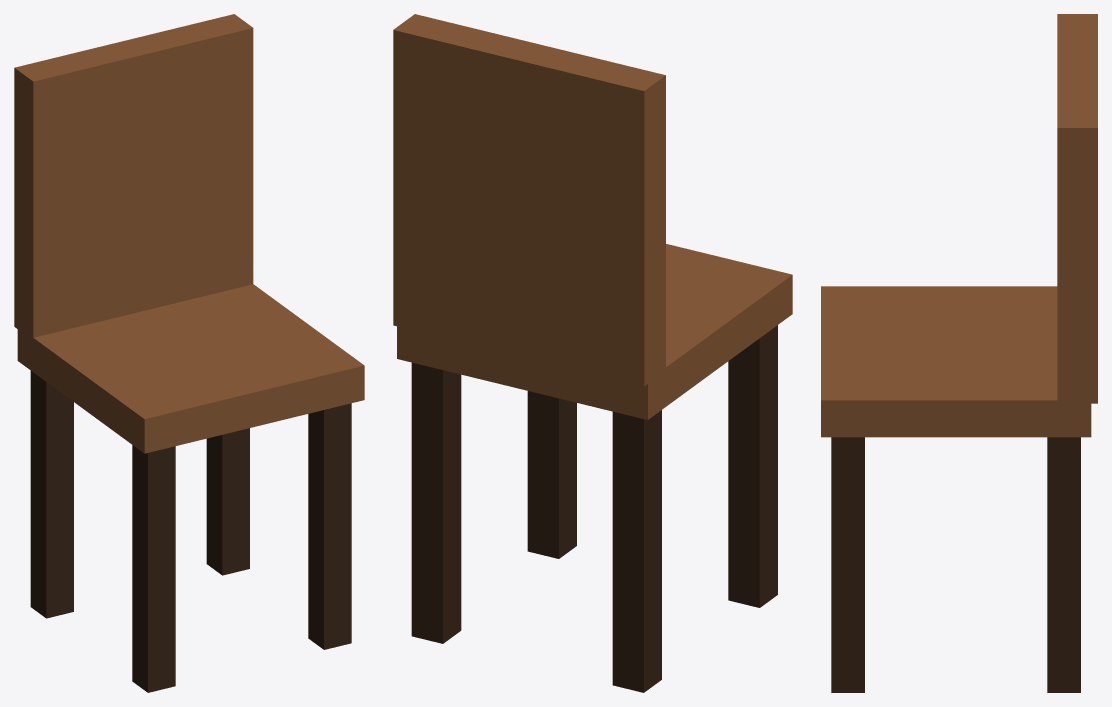
File: f_chair.glb
3 renders of one model, left to right at view 1: azimuth 30°, elevation 25°; view 2: azimuth 150°, elevation 25°; view 3: azimuth 270°, elevation 25°, orthographic. The views are drawn at different scales.
Parts seen in each view (by area): view 1: chair; view 2: chair; view 3: chair.
Boxes of the visible parts, x1,y1,x2,y2 form: chair: (14, 14, 364, 692); chair: (393, 14, 792, 692); chair: (821, 14, 1097, 692).
Bounding box in the file's own units: 0.4 × 0.93 × 0.41.
